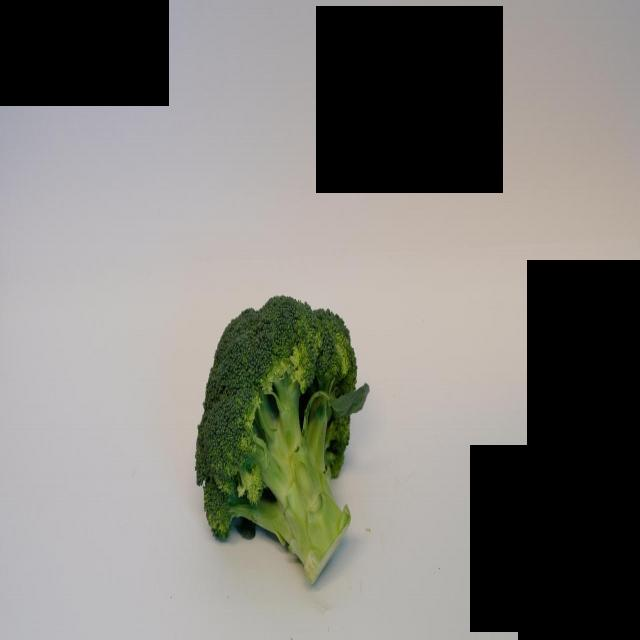broccoli: (194, 293, 370, 587)
